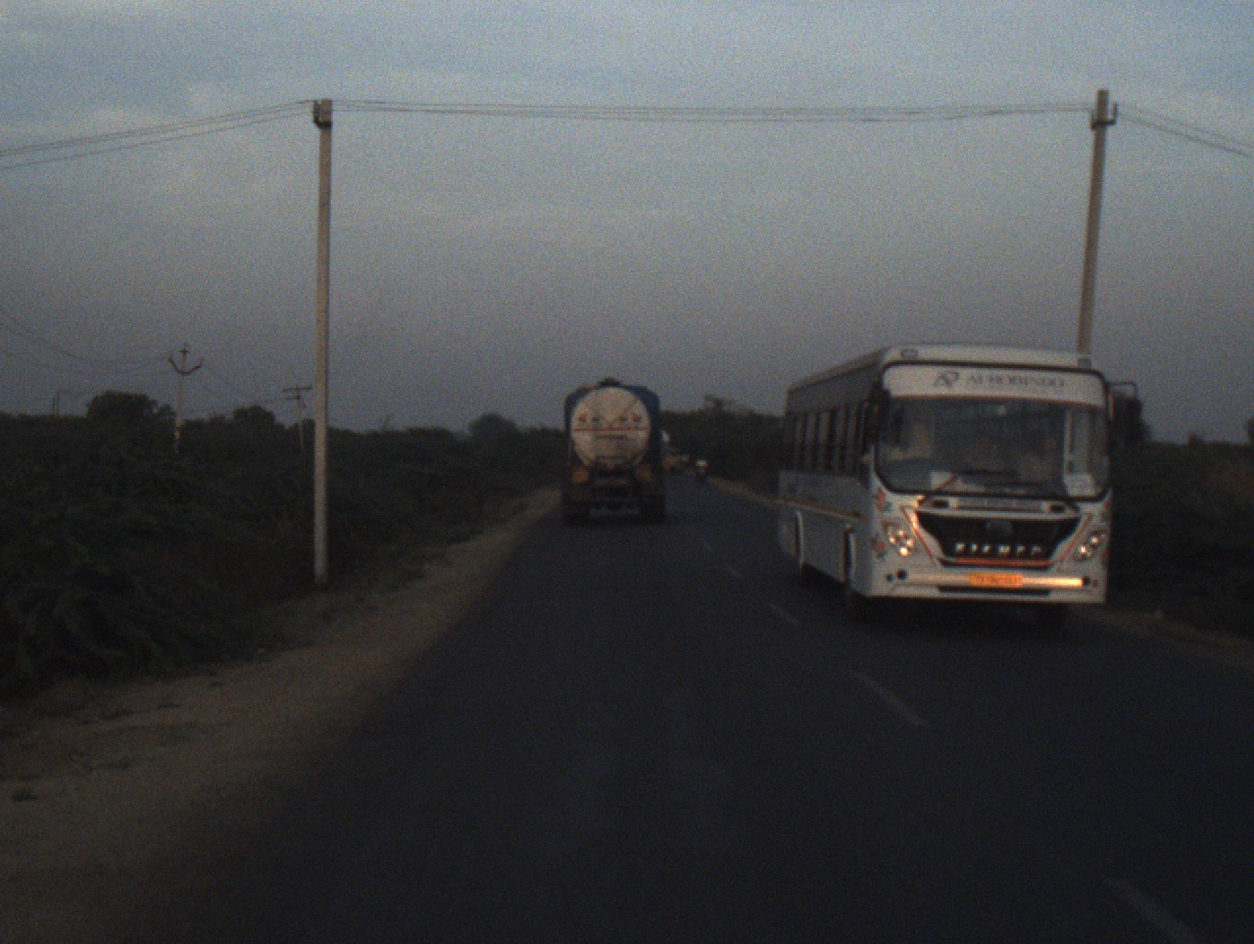autorickshaw: (658, 440, 685, 476)
bus: (769, 340, 1144, 631)
motorcycle: (699, 461, 708, 479)
rider: (696, 456, 712, 472)
truck: (553, 370, 672, 529)
vehicle fallback: (660, 431, 671, 452)
